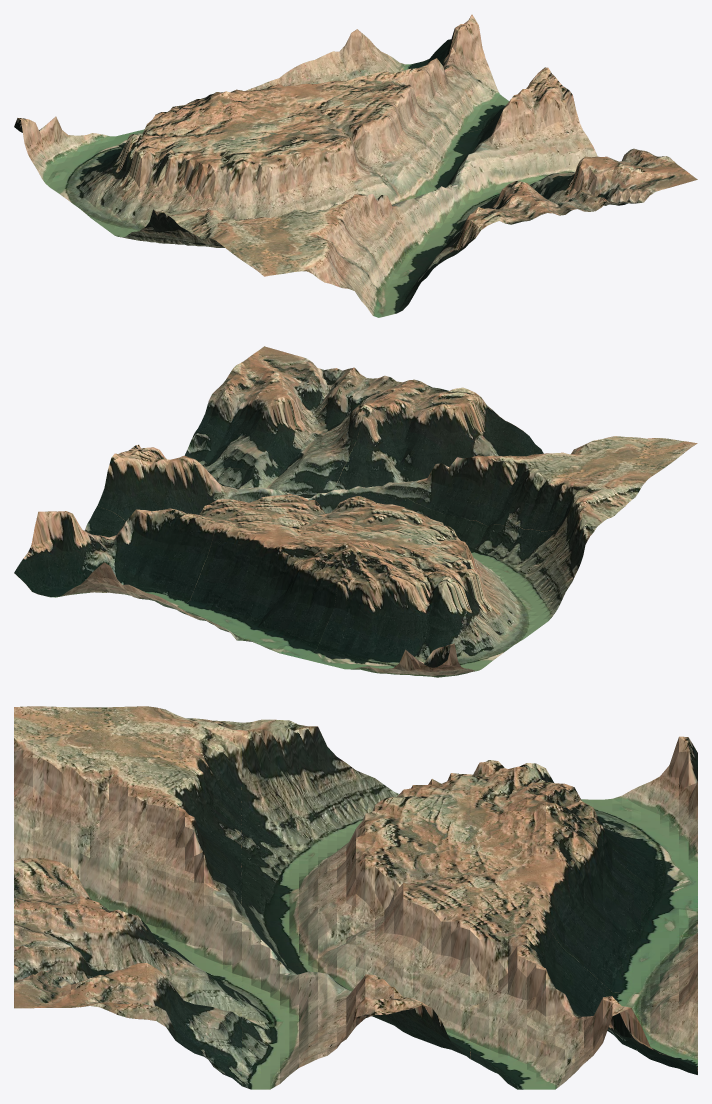
3 views of the same model, one above another, from view 1: azimuth 30°, elevation 25°; view 2: azimuth 150°, elevation 25°; view 3: azimuth 270°, elevation 25° (orthographic). The views are drawn at different scales.
Parts seen in each view (by area): view 1: Layer 01; view 2: Layer 01; view 3: Layer 01.
Part boxes in pixels (x1,y1,x2,y2): Layer 01: [14, 14, 697, 317]; Layer 01: [14, 346, 697, 677]; Layer 01: [14, 706, 697, 1089].
Bounding box in the file's own units: 0.402 × 0.0655 × 0.402.
1 material, 1 textured.
